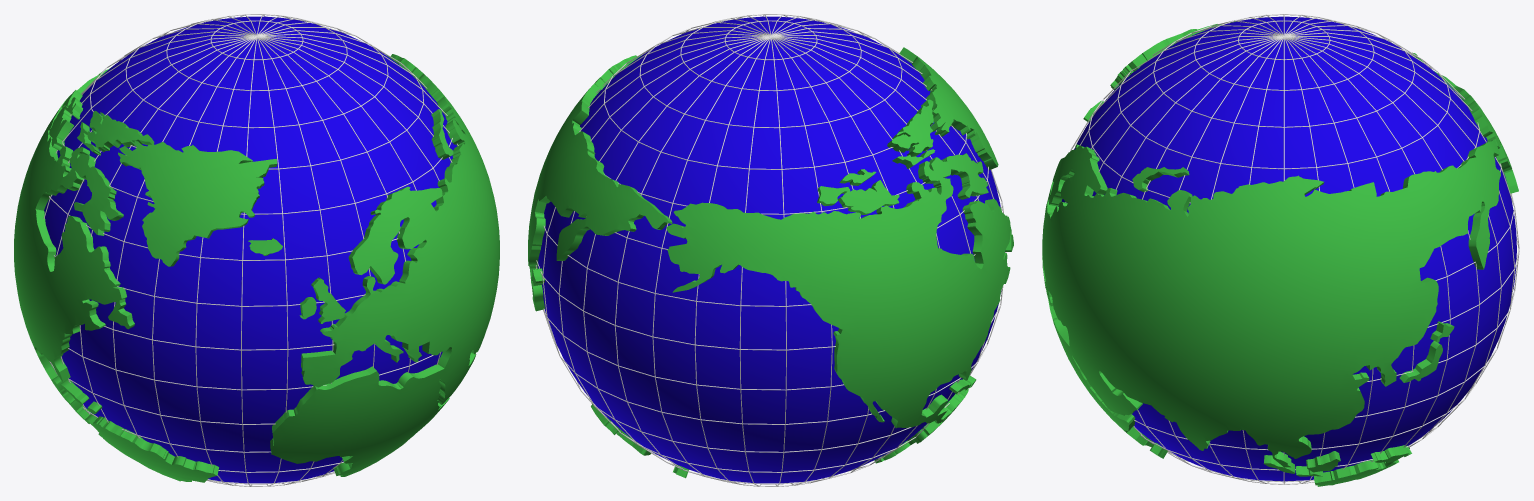
File: Globe.glb
3 views of the same model, side by side, from view 1: azimuth 30°, elevation 25°; view 2: azimuth 150°, elevation 25°; view 3: azimuth 270°, elevation 25° (orthographic).
Visible parts, largest first — view 1: Icosphere, Land, Sphere wire; view 2: Icosphere, Land, Sphere wire; view 3: Land, Icosphere, Sphere wire.
Boxes of the visible parts, box(x1,y1,x2,y2) form: Icosphere: box(44, 16, 456, 483); Land: box(14, 54, 499, 482); Sphere wire: box(43, 14, 458, 486); Icosphere: box(537, 16, 1001, 483); Land: box(528, 47, 1013, 478); Sphere wire: box(535, 14, 1006, 486); Land: box(1042, 21, 1518, 486); Icosphere: box(1058, 16, 1516, 481); Sphere wire: box(1065, 14, 1519, 484).
Bounding box in the file's own units: 2.08 × 2.02 × 2.05.
